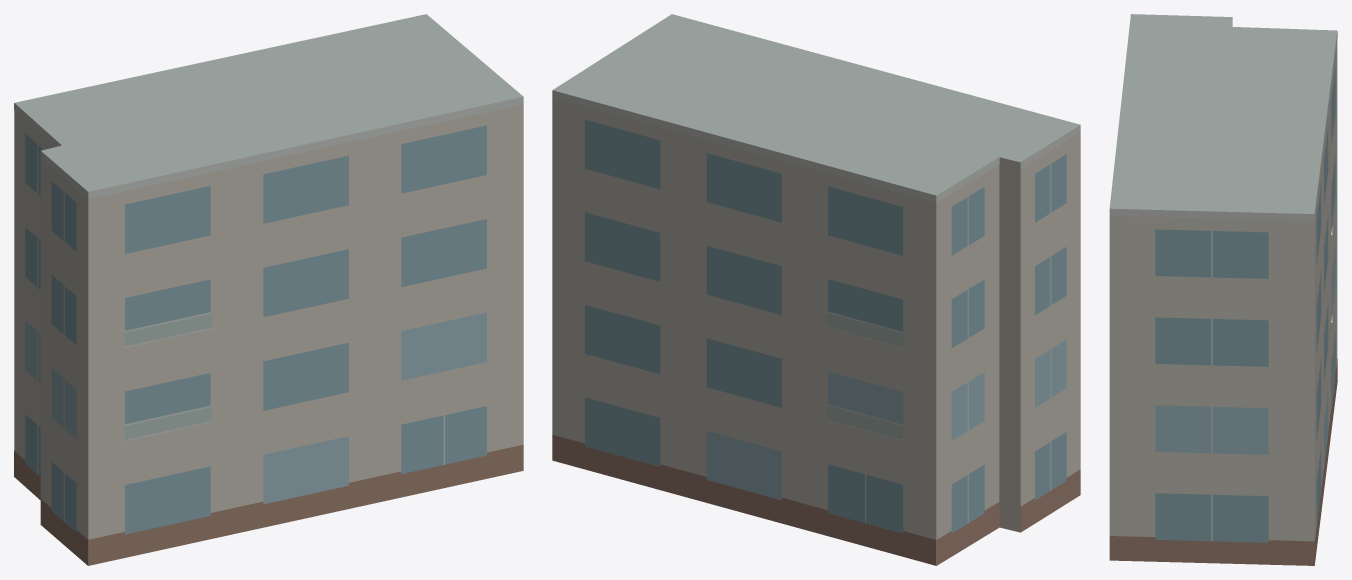
File: survey-upis-32959699.glb
The picture shows the model from 3 angles, left to right: view 1: azimuth 30°, elevation 25°; view 2: azimuth 150°, elevation 25°; view 3: azimuth 270°, elevation 25°; orthographic projection. The views are drawn at different scales.
Parts seen in each view (by area): view 1: survey-upis-32959699.tmp; view 2: survey-upis-32959699.tmp; view 3: survey-upis-32959699.tmp.
Part boxes in pixels (bbox=[...]): survey-upis-32959699.tmp: bbox=[14, 14, 523, 565]; survey-upis-32959699.tmp: bbox=[552, 14, 1080, 565]; survey-upis-32959699.tmp: bbox=[1109, 14, 1337, 565].
Bounding box in the file's own units: 14.88 × 12.19 × 7.17.
